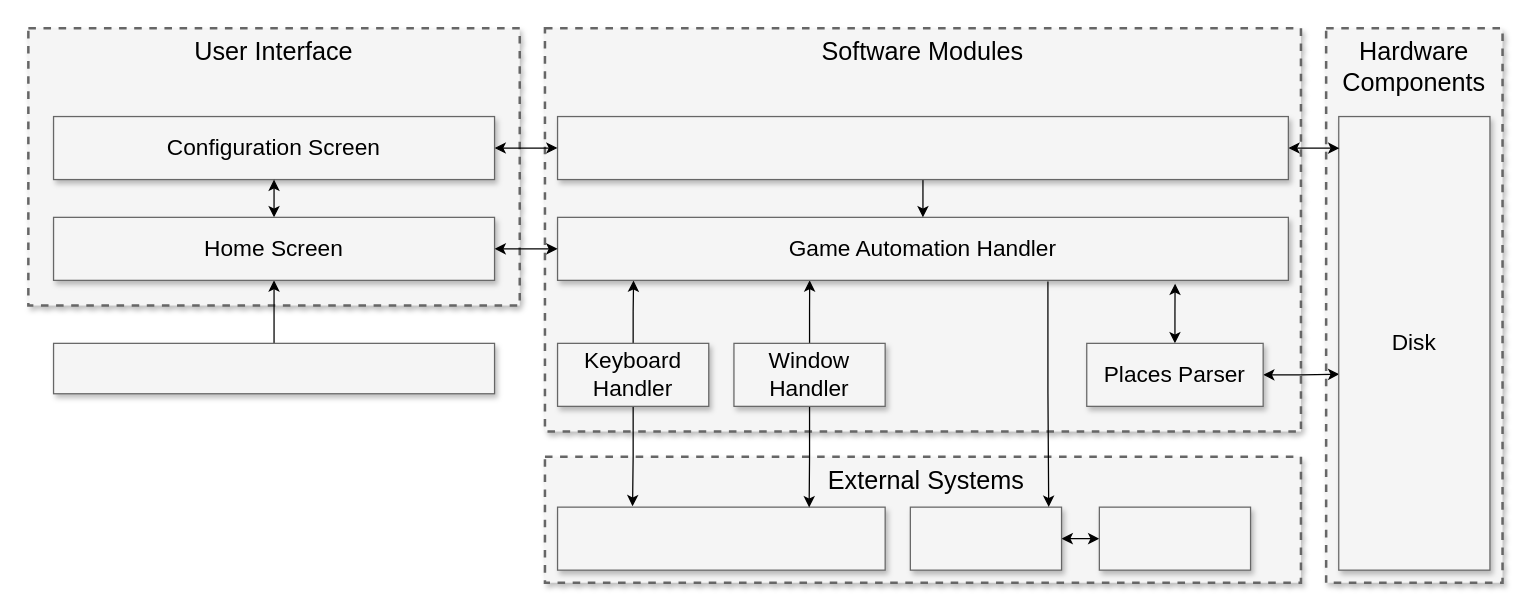
Some shapes in this 1532 by 614 pixel diagram are drawn without their labels. Here are the shapes that lost their labels. From the top down, the centre of each, then its label:
the point at 923,149: Configuration Manager
the point at 274,370: User
the point at 722,540: pywin32 Library
the point at 986,540: Minecraft Java Edition
the point at 1175,540: WorldEdit
